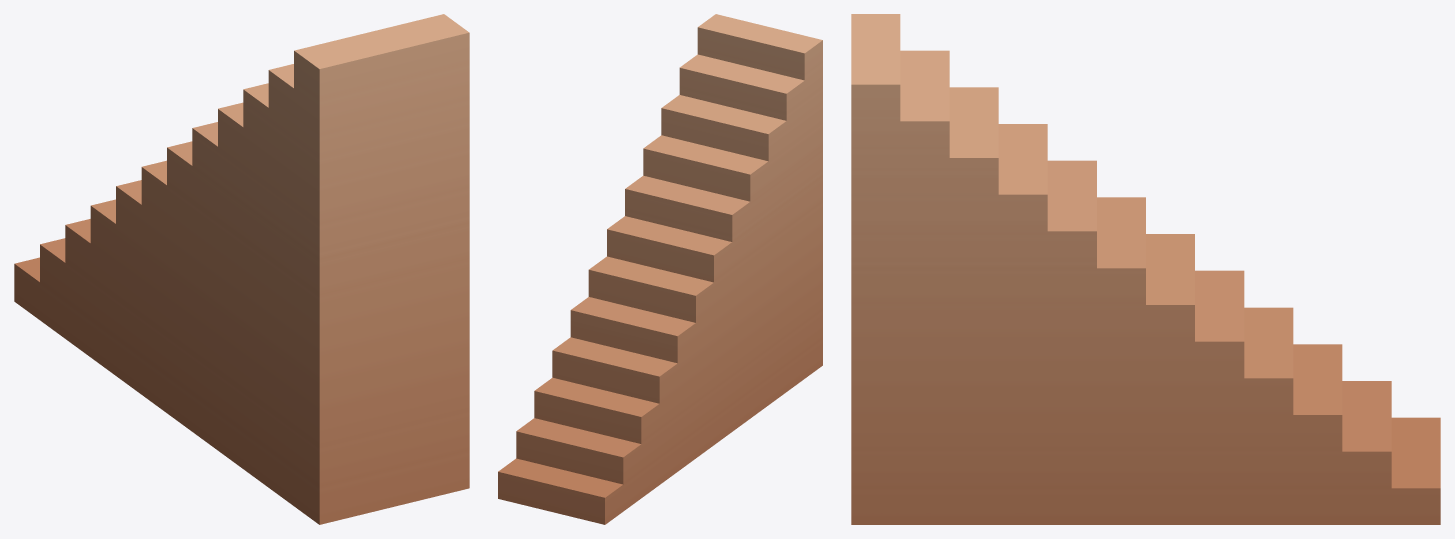
Rendered from stairs-stone-square.obj.
3 renders of one model, left to right at view 1: azimuth 30°, elevation 25°; view 2: azimuth 150°, elevation 25°; view 3: azimuth 270°, elevation 25°, orthographic. The views are drawn at different scales.
Visible parts, largest first — view 1: stairs-stone-square; view 2: stairs-stone-square; view 3: stairs-stone-square.
Part boxes in pixels (x1,y1,x2,y2): stairs-stone-square: (14, 14, 469, 524); stairs-stone-square: (498, 14, 822, 524); stairs-stone-square: (851, 14, 1440, 524).
Bounding box in the file's own units: 0.2325 × 0.675 × 0.819.
1 material, 1 textured.
